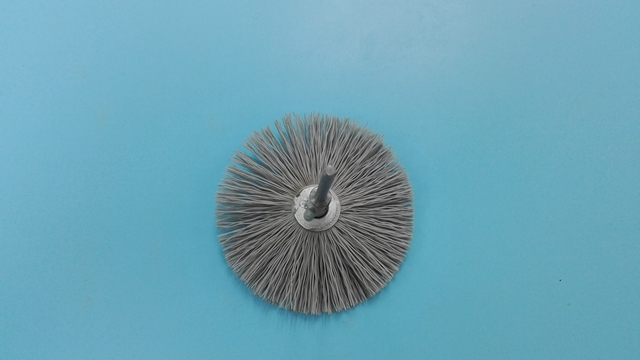TOOL: (156, 75, 475, 347), (211, 115, 430, 321)
